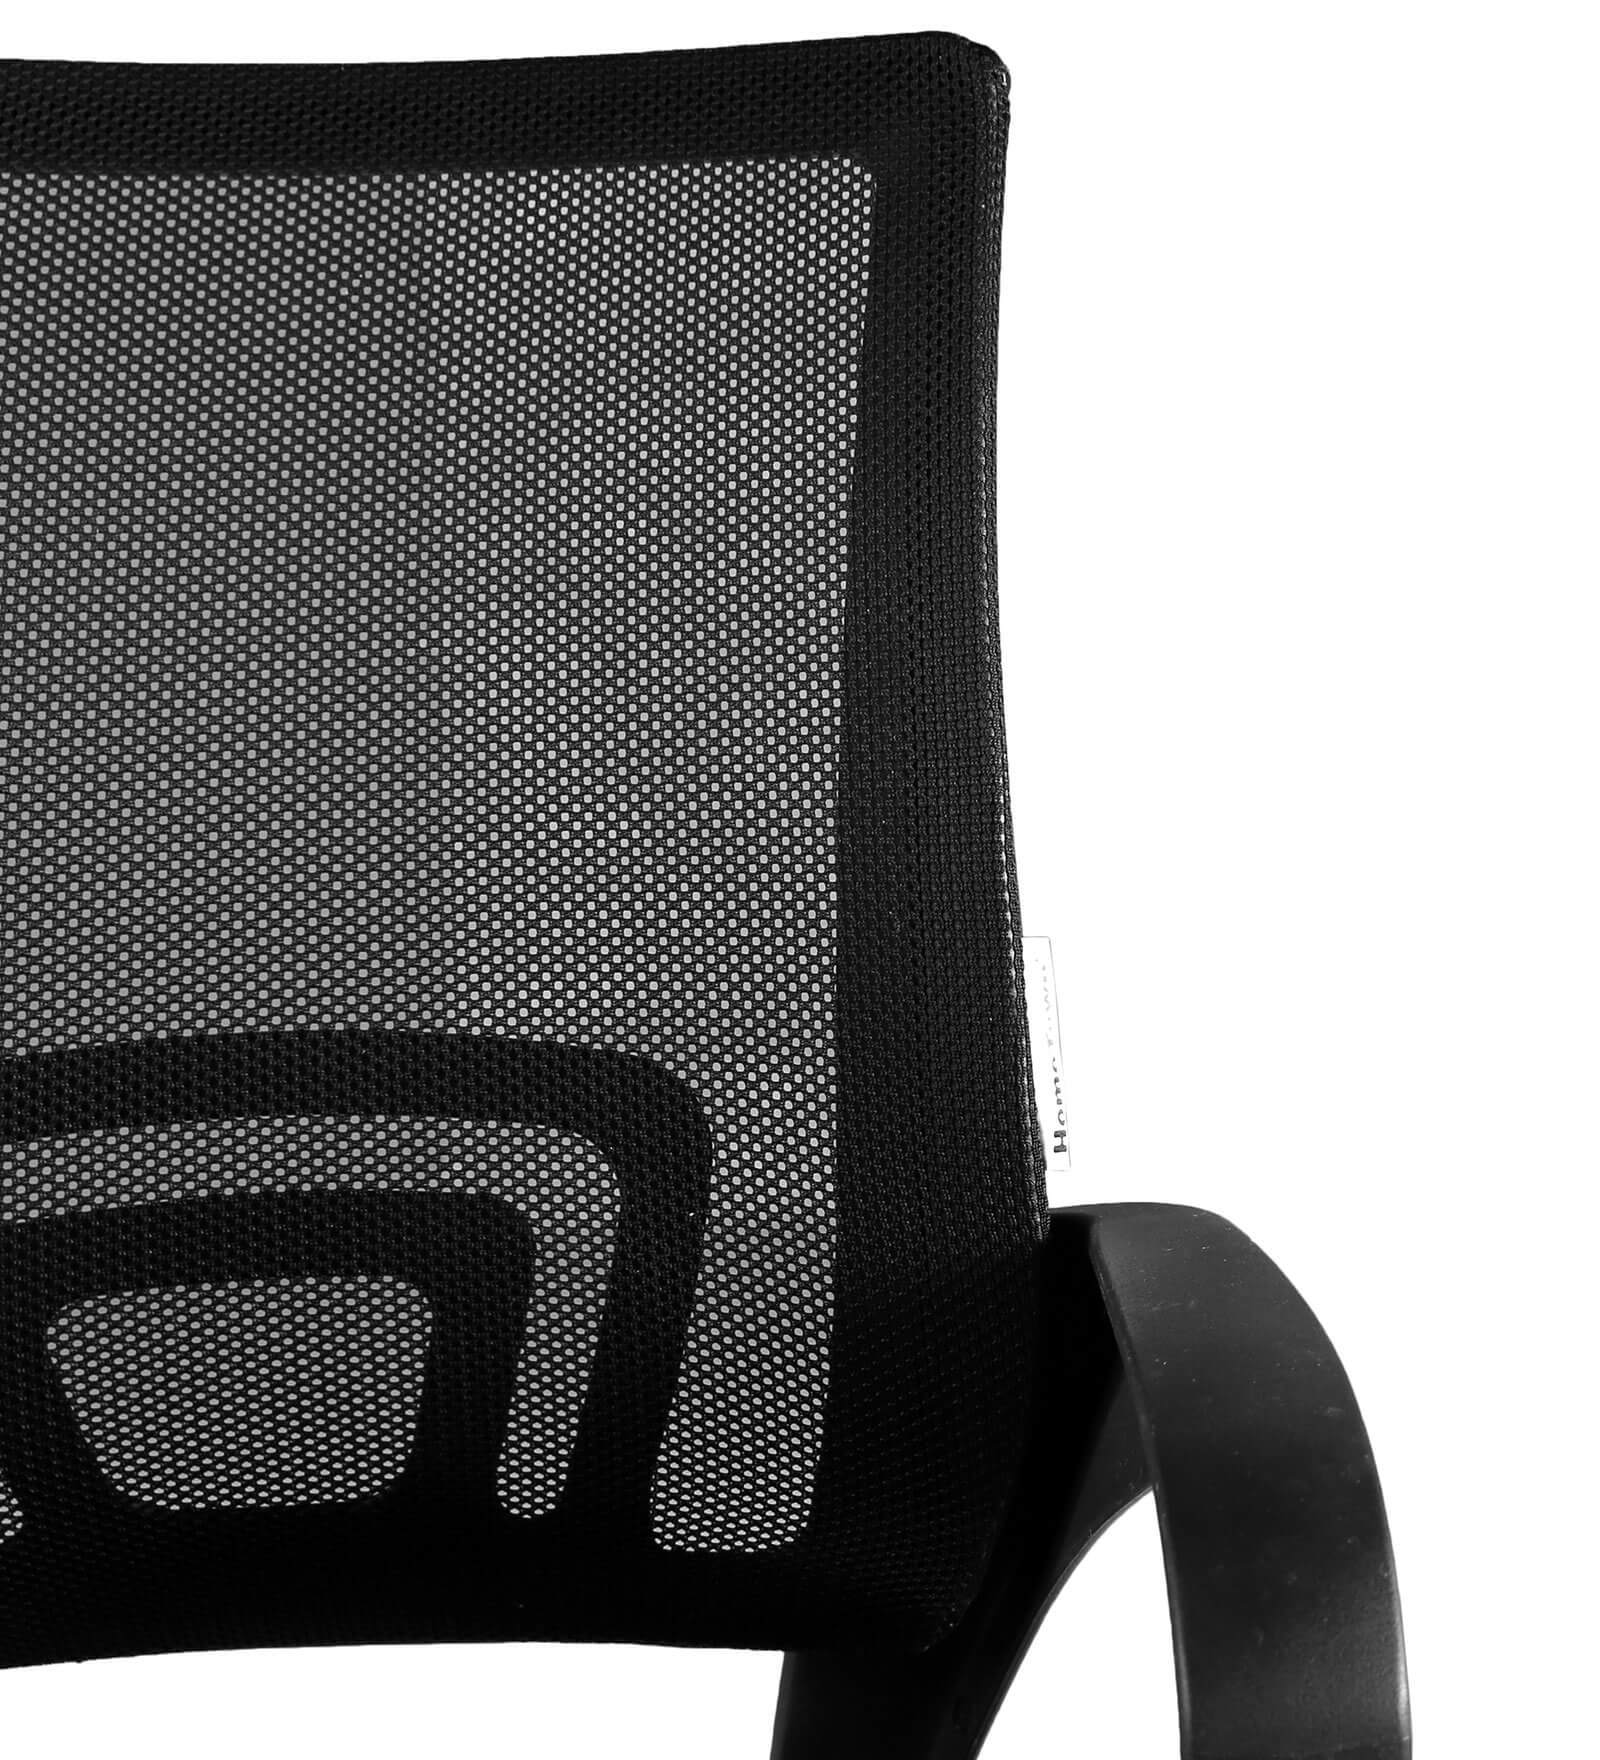Regus Low Back Mesh Chair in Green Colour by Hometown: (9, 74, 1361, 1735)
